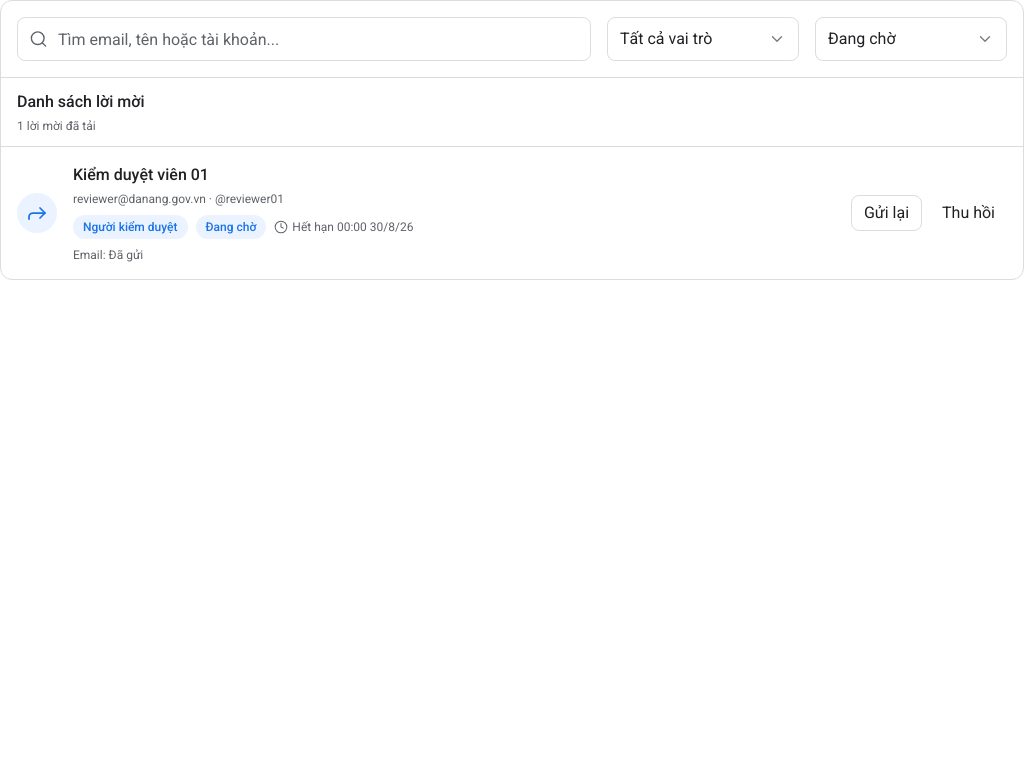
Scenario: System Admin invitation queue › surfaces stale invite conflict and does not present success
The image size is (1024, 768).
Expected: the text "Kiểm duyệt viên 01" is shown, [73,165,209,184]
Click the button "Gửi lại" at (886, 213), box [851,195,922,231]
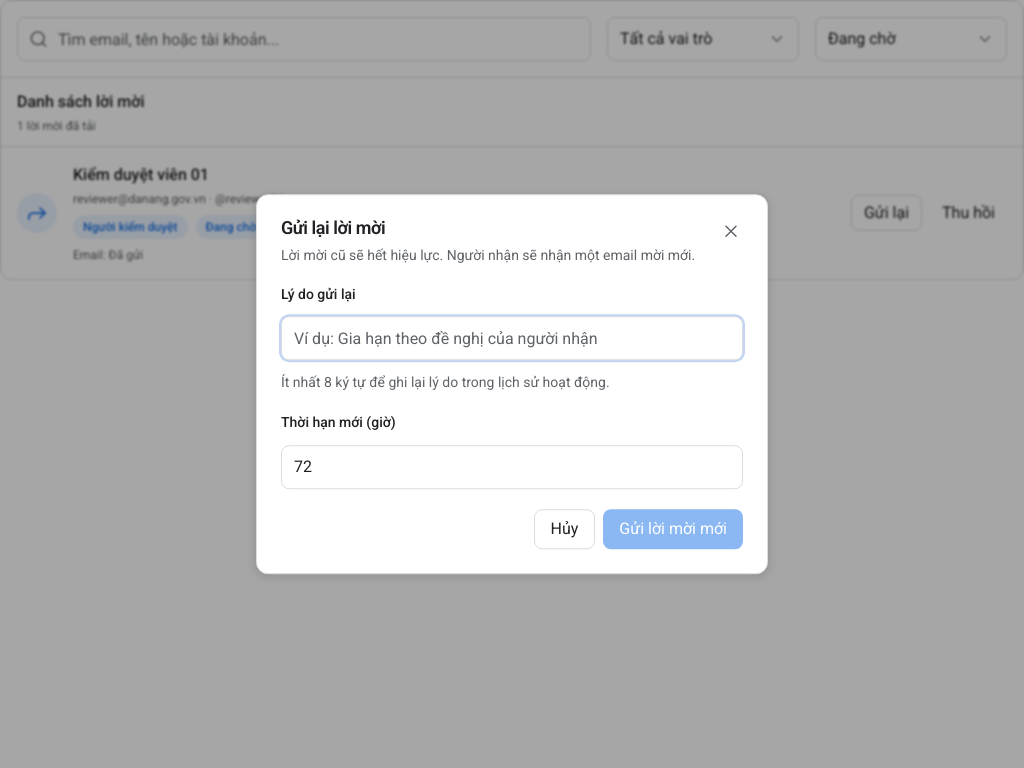
Type "Người dùng yêu cầu gửi lại" into the field labelled "Lý do gửi lại" at (512, 338), box [281,316,743,360]
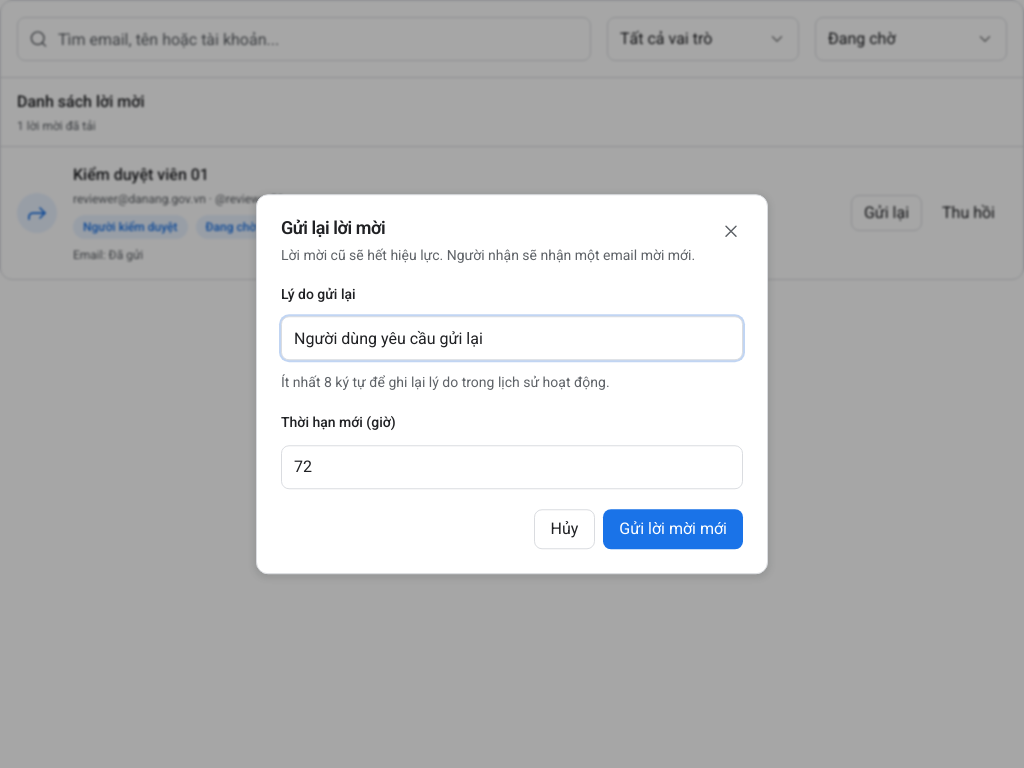
Click the button "Gửi lời mời mới" at (673, 529), box [603,509,743,549]
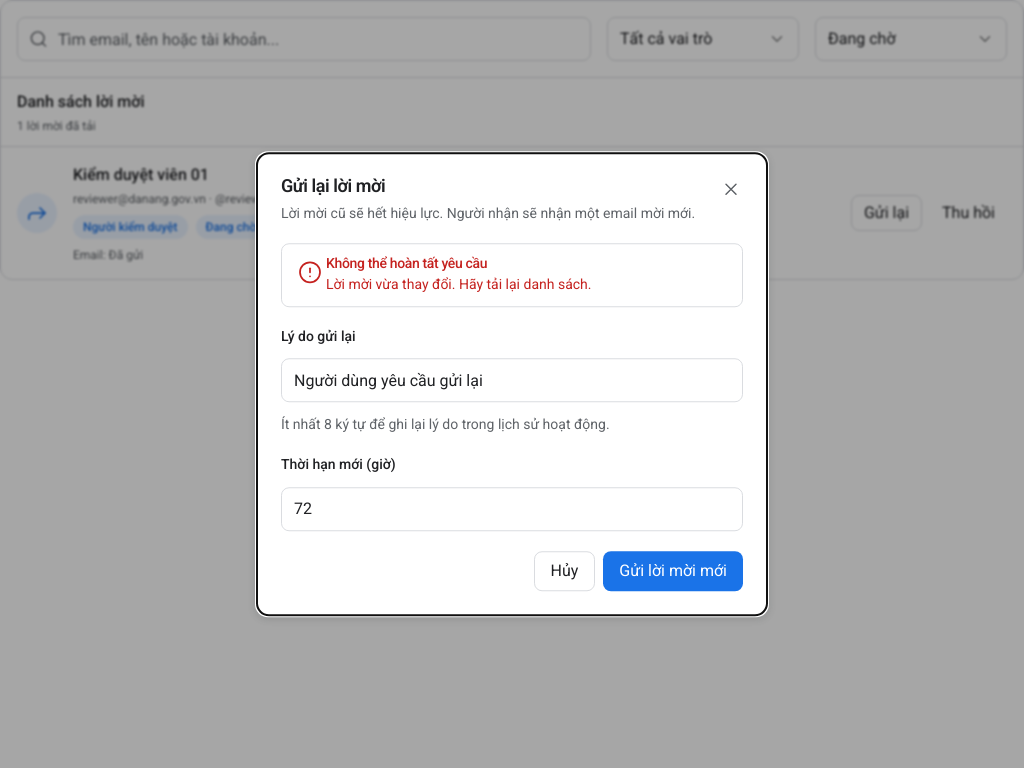
Expected: the message shows "vừa thay đổi", [326,276,592,292]
